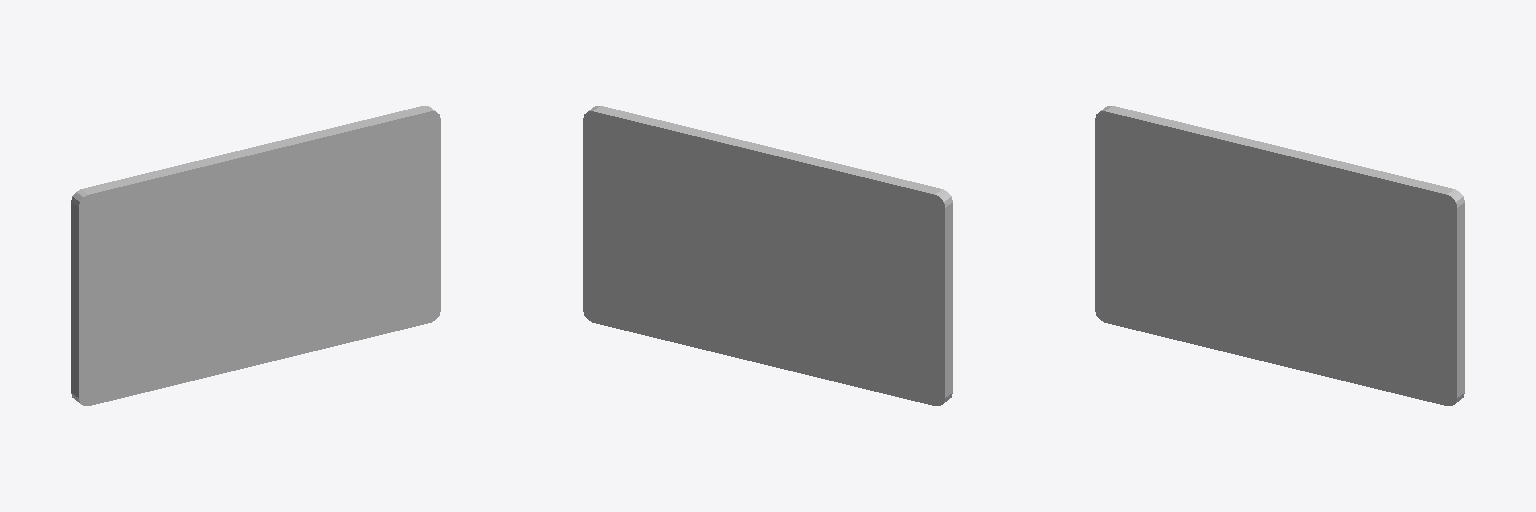
Rendered from table_body.obj.
3 views of the same model, side by side, from view 1: azimuth 30°, elevation 25°; view 2: azimuth 150°, elevation 25°; view 3: azimuth 330°, elevation 25° (orthographic).
Size of the model in its own units: 2.74 by 1.53 by 0.1.